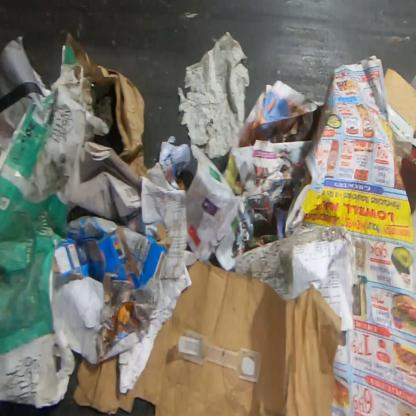cardboard: (74, 260, 344, 416), (52, 215, 171, 365), (66, 32, 146, 176), (383, 67, 415, 138), (397, 153, 415, 216)
